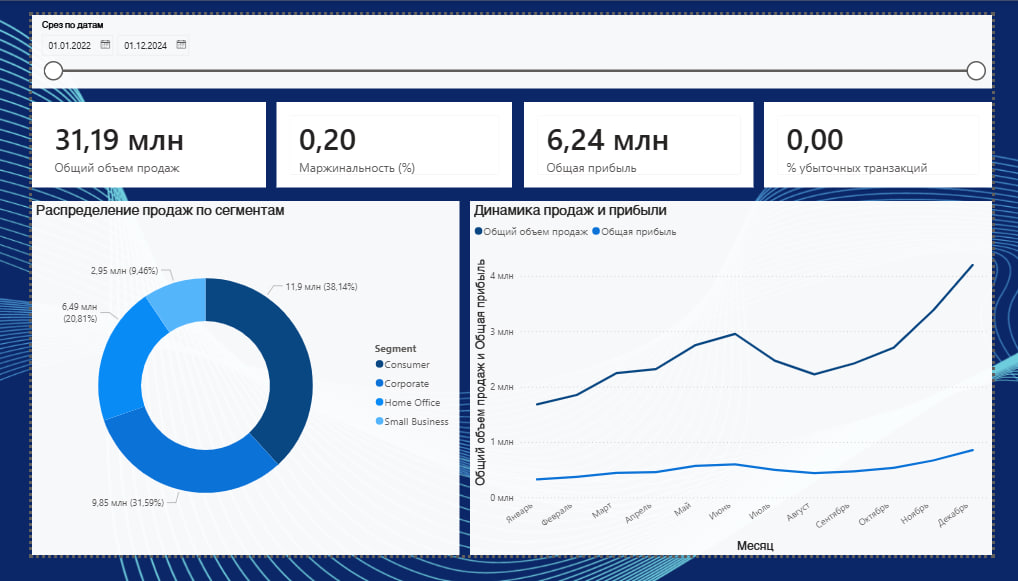

The dashboard page shown, as its layout file describes it:
{"tool":"powerbi","page":{"name":"Общие KPI и тренды","canvas":[1280,720],"ordinal":0},"visuals":[{"type":"cardVisual","fields":{"Data":["Меры.Общий объем продаж"]},"box":[0,116,312,114],"z":0},{"type":"cardVisual","fields":{"Data":["Меры.Общая прибыль"]},"box":[656,116,306,114],"z":1000},{"type":"cardVisual","fields":{"Data":["Меры.Маржинальность (%)"]},"box":[326,116,314,114],"z":2000},{"type":"cardVisual","fields":{"Data":["Меры.% убыточных транзакций"]},"box":[976,116,304,114],"z":3000},{"type":"lineChart","title":"Динамика продаж и прибыли","fields":{"Category":["Calendar.Date.Изменение.Иерархия дат.Месяц"],"Y":["Меры.Общий объем продаж","Меры.Общая прибыль"]},"box":[584,248,696,472],"z":4000},{"type":"slicer","fields":{"Values":["Calendar.YearMonth"]},"box":[0,0,1280,98],"z":5000},{"type":"donutChart","title":"Распределение продаж по сегментам","fields":{"Y":["Меры.Общий объем продаж"],"Category":["Customers.Segment"]},"box":[0,248,570,472],"z":6000}]}

Visuals, with their boxes in screenshot pixels (x1, y1, x2, y2), scaled from the page's 1280x720 canvas onto the 1018x581 screenshot:
cardVisual - Меры.Общий объем продаж: <region>0, 94, 248, 186</region>
cardVisual - Меры.Общая прибыль: <region>522, 94, 765, 186</region>
cardVisual - Меры.Маржинальность (%): <region>259, 94, 509, 186</region>
cardVisual - Меры.% убыточных транзакций: <region>776, 94, 1017, 186</region>
"Динамика продаж и прибыли" lineChart: <region>464, 200, 1017, 580</region>
slicer - Calendar.YearMonth: <region>0, 0, 1017, 79</region>
"Распределение продаж по сегментам" donutChart: <region>0, 200, 453, 580</region>
